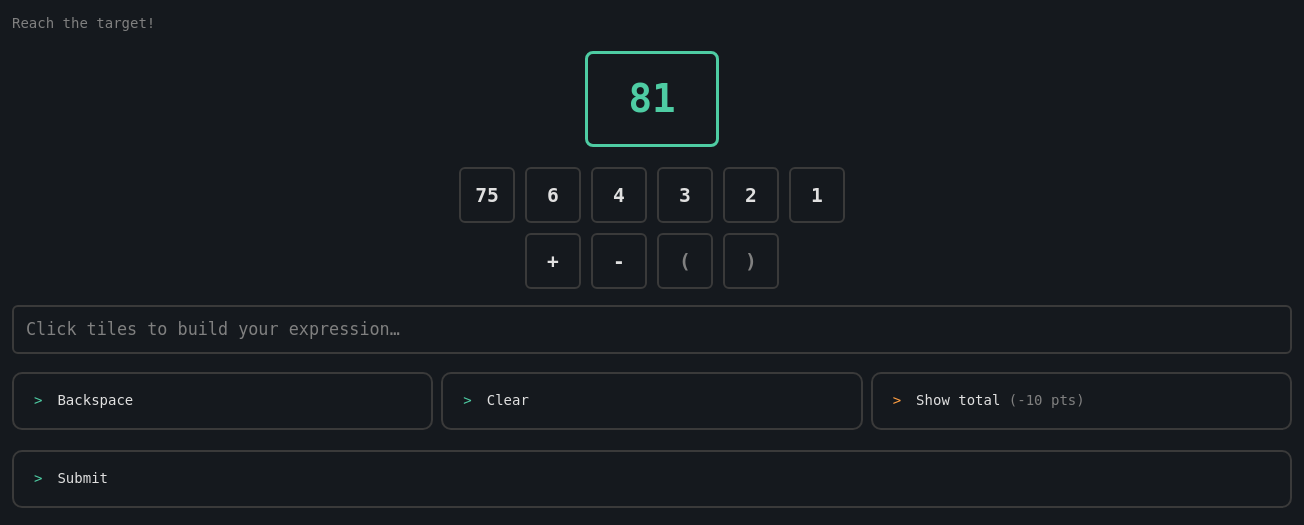
Test: CountdownPuzzle expression building › bracket tiles add to expression and are never disabled
Click the button with test id "bracket-tile-(". click: [685, 261]
box: [657,233,713,289]
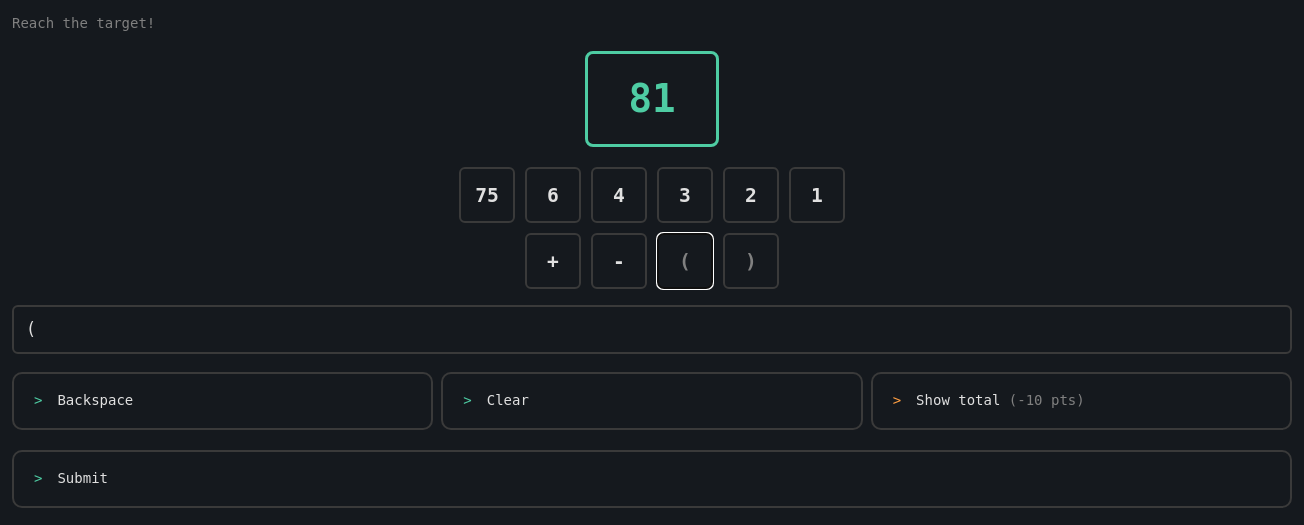
Click the button with test id "number-tile-0". click: [487, 195]
box: [459,167,515,223]
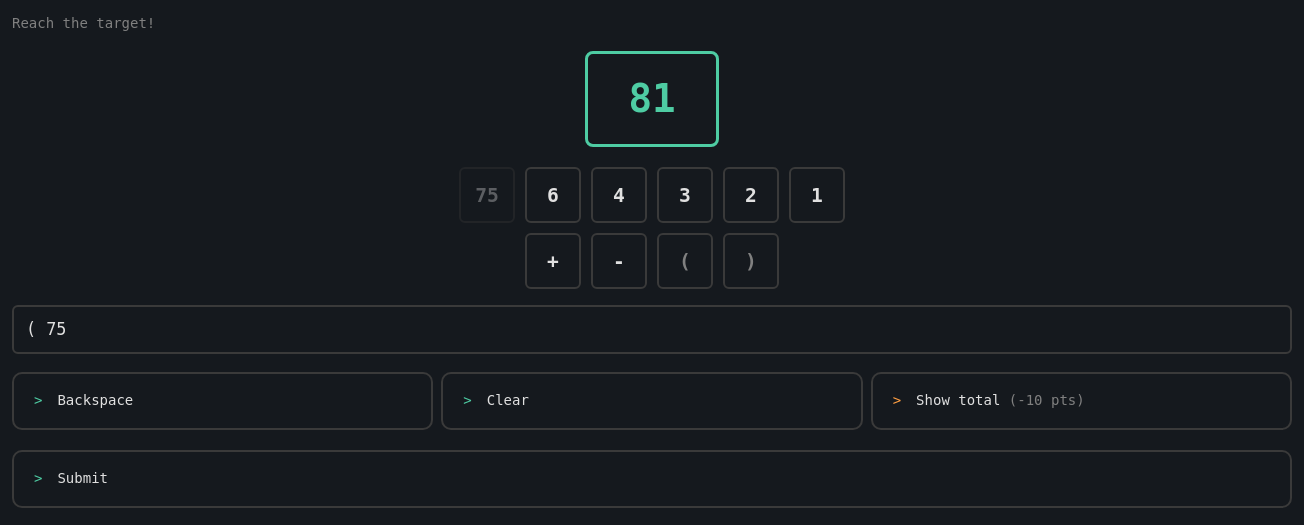
Click the button with test id "bracket-tile-)". click: [751, 261]
box: [723,233,779,289]
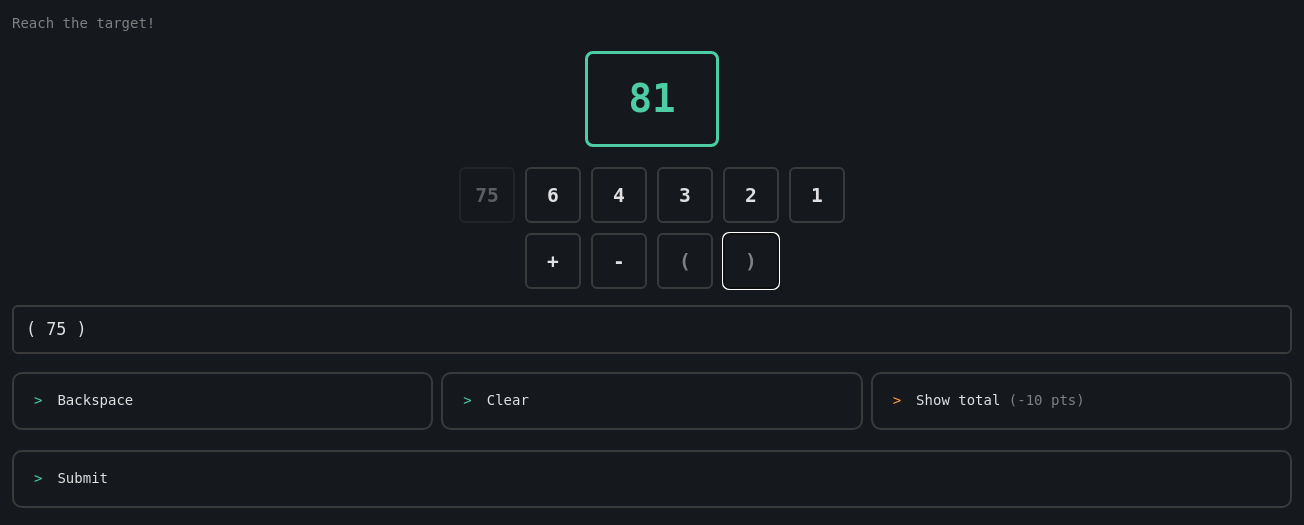
Expected: the button with test id "bracket-tile-(" is enabled, [657,233,713,289]
Expected: the element with test id "expression-display" reads "( 75 )", [26,319,87,339]
